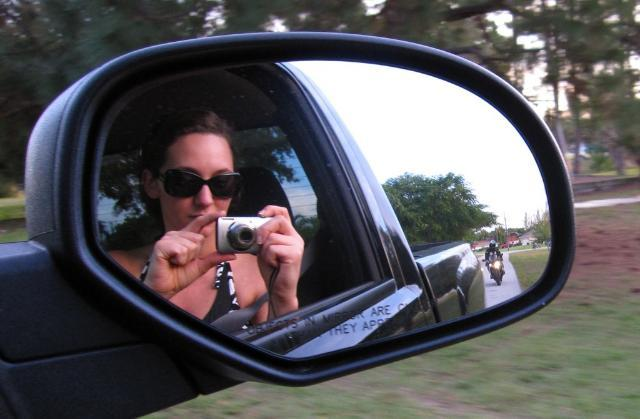Seatbelt: (207, 295, 270, 334)
